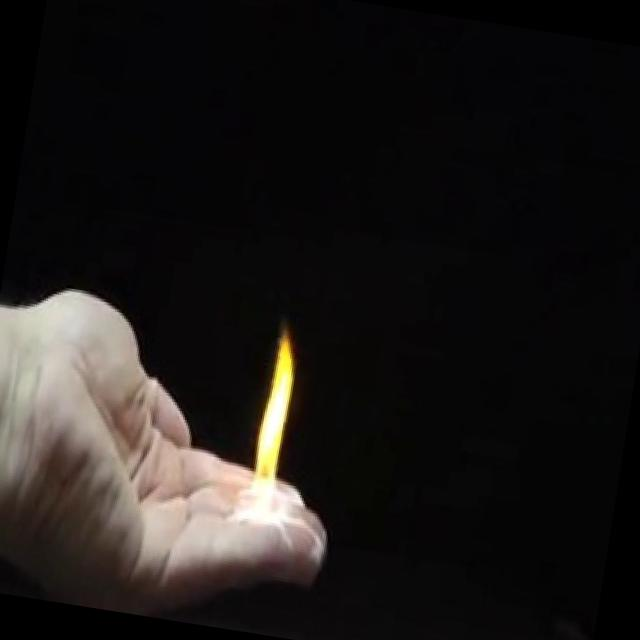Fire: (235, 314, 319, 520)
